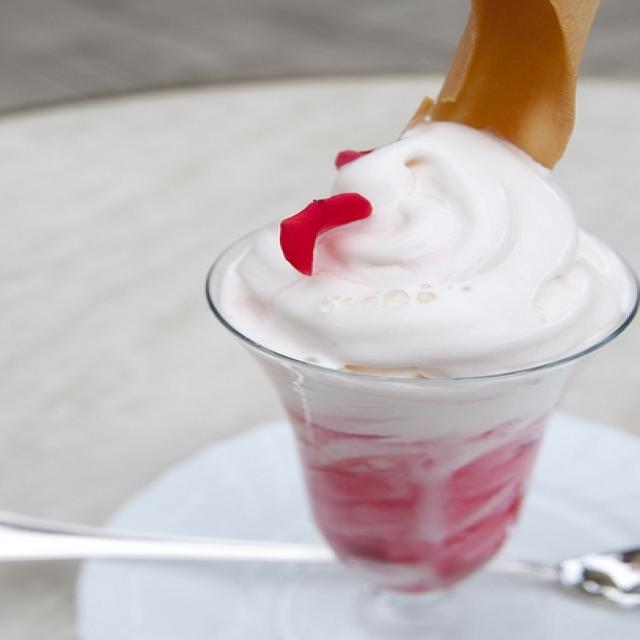蛋糕甜品: (13, 18, 629, 621)
